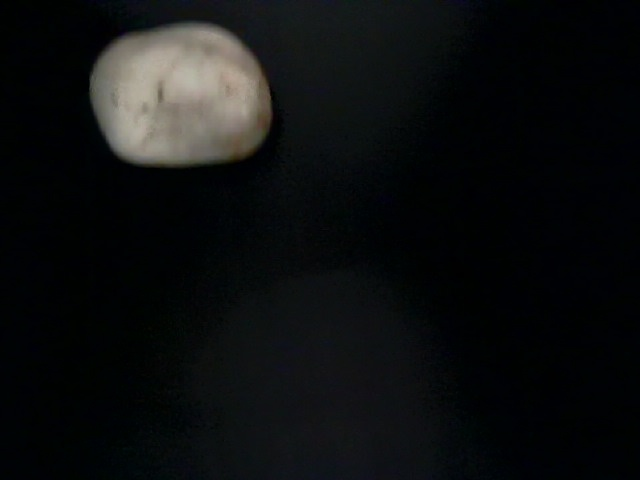QTLJ: (468, 55, 634, 352)
